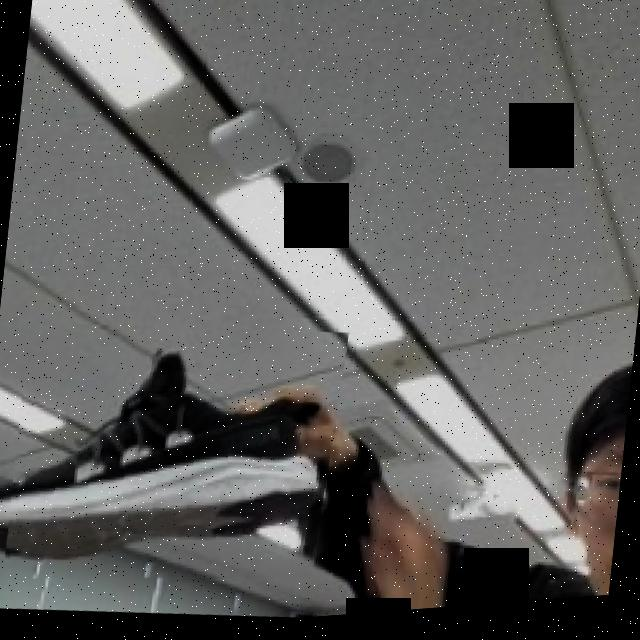shoe: (2, 304, 349, 612)
